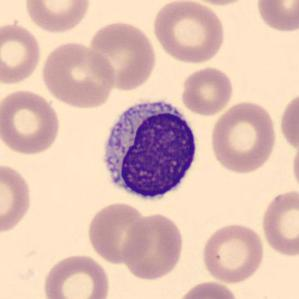Lymphocyte: (96, 93, 204, 207)
RBC: (39, 40, 118, 110), (208, 99, 279, 175), (86, 19, 158, 91), (150, 0, 227, 65), (120, 210, 186, 282), (85, 200, 152, 264), (199, 221, 266, 285), (0, 88, 63, 156), (41, 252, 112, 299), (179, 65, 235, 117), (0, 20, 43, 86), (259, 186, 298, 258), (0, 161, 34, 236), (21, 0, 93, 35), (253, 0, 298, 34), (278, 88, 298, 155), (174, 279, 241, 299), (289, 138, 299, 196), (183, 0, 256, 7)
